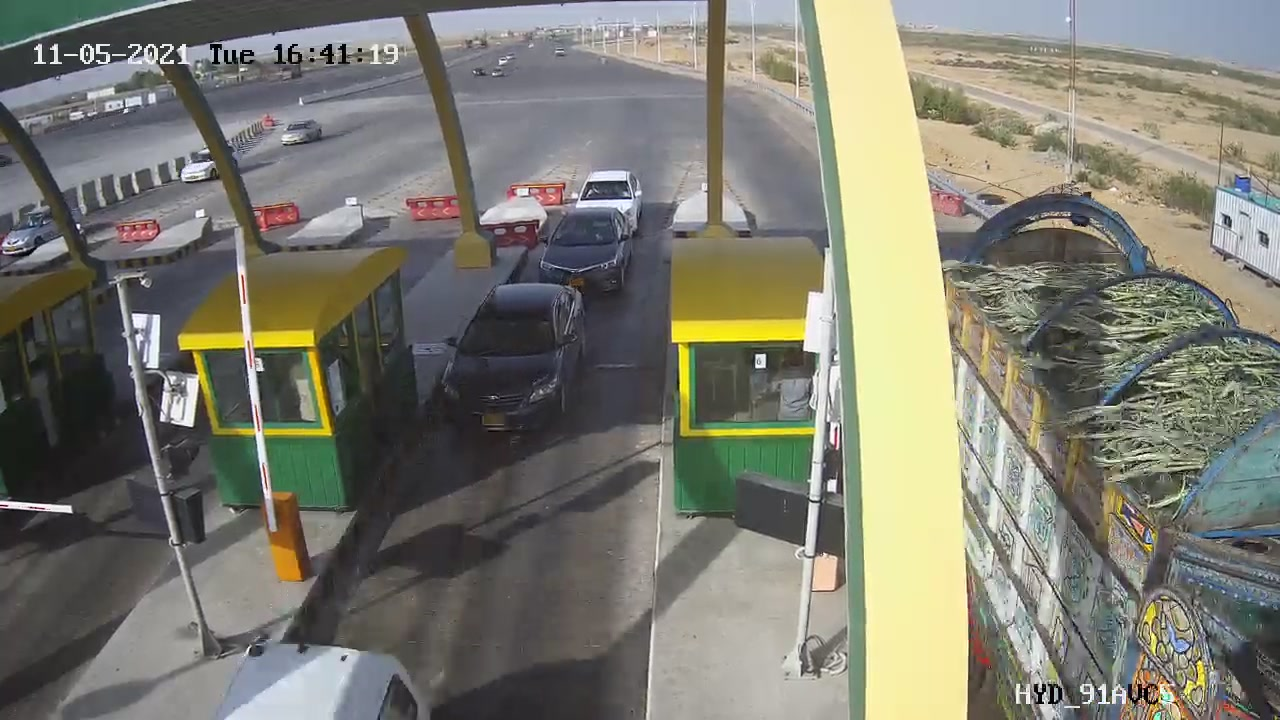F1: (416, 271, 609, 450), (524, 198, 649, 305)
